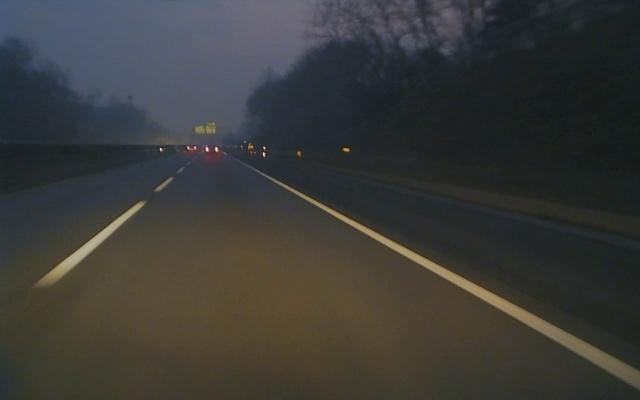lane: (229, 154, 640, 390), (25, 157, 198, 287)
